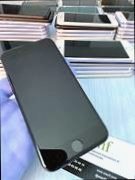iphone: (2, 38, 108, 172)
